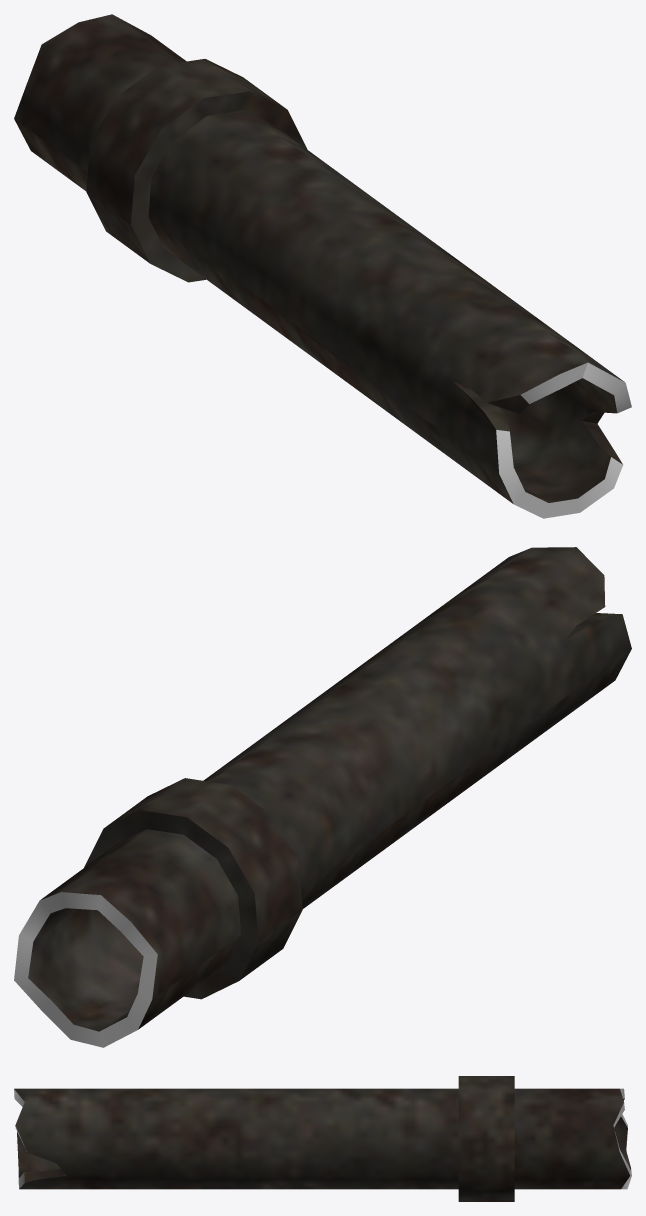
The model's file is pipe_mx_1.obj.
3 renders of one model, top to bottom at view 1: azimuth 30°, elevation 25°; view 2: azimuth 150°, elevation 25°; view 3: azimuth 270°, elevation 25°, orthographic. The views are drawn at different scales.
Parts seen in each view (by area): view 1: pipe_mx_1; view 2: pipe_mx_1; view 3: pipe_mx_1.
Part boxes in pixels (box(x1,y1,x2,y2)): pipe_mx_1: box(14, 14, 631, 518); pipe_mx_1: box(14, 547, 631, 1047); pipe_mx_1: box(14, 1076, 631, 1201).
Bounding box in the file's own units: 0.0615 × 0.0615 × 0.2962.
